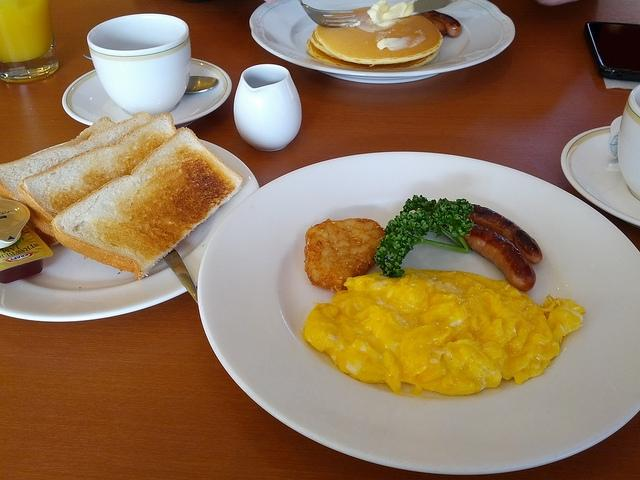potato: (304, 218, 386, 292)
